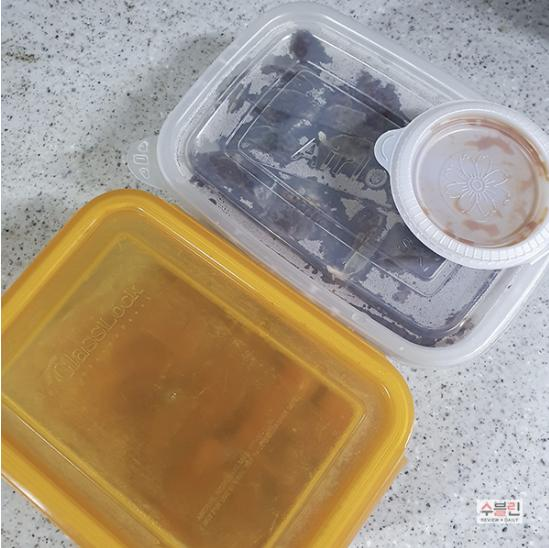Lunch Box: (129, 4, 548, 366), (0, 190, 416, 547)
cup: (375, 101, 548, 269)
